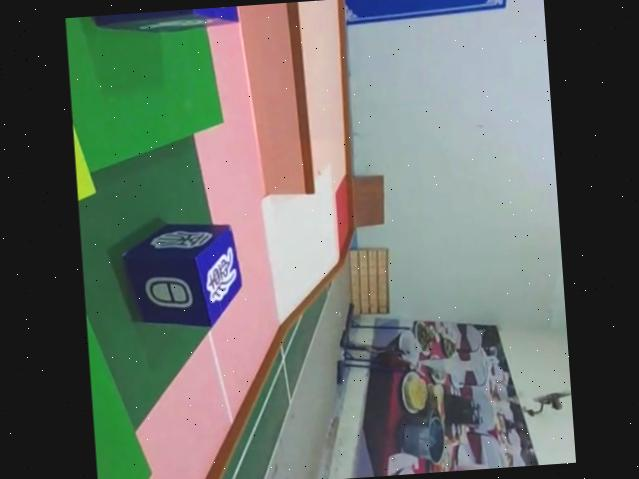R2 Fake Blue: (116, 219, 243, 333), (68, 5, 241, 38)
